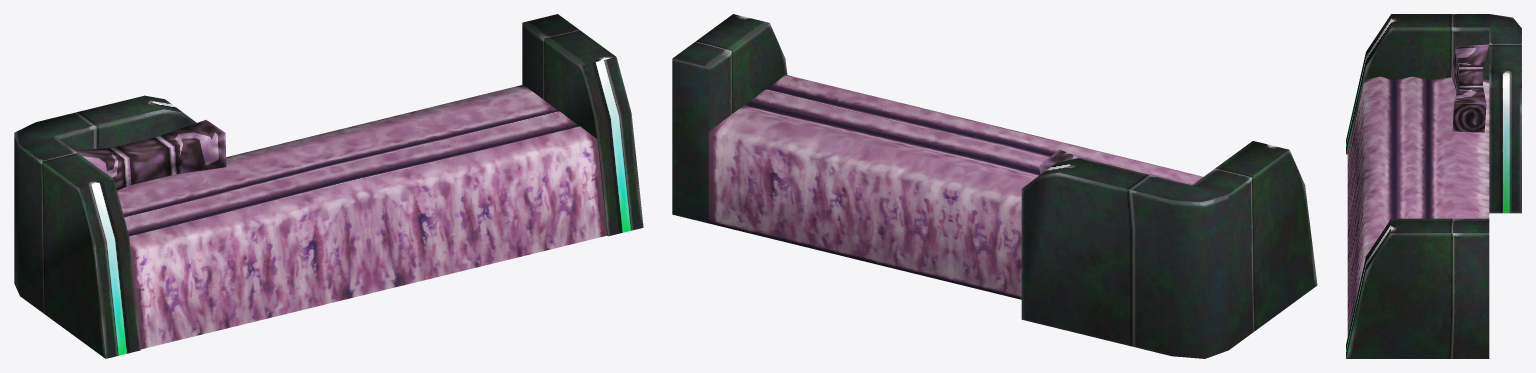
The model's file is frn_all_couch_divan_s1_l1.fbx.
3 views of the same model, side by side, from view 1: azimuth 30°, elevation 25°; view 2: azimuth 150°, elevation 25°; view 3: azimuth 270°, elevation 25° (orthographic). The views are drawn at different scales.
Visible parts, largest first — view 1: mesh_node; view 2: mesh_node; view 3: mesh_node.
Boxes of the visible parts, bbox=[...] form: mesh_node: bbox=[14, 14, 643, 358]; mesh_node: bbox=[672, 14, 1317, 358]; mesh_node: bbox=[1346, 14, 1521, 358].
Bounding box in the file's own units: 2.3 × 0.6179 × 0.7819.
